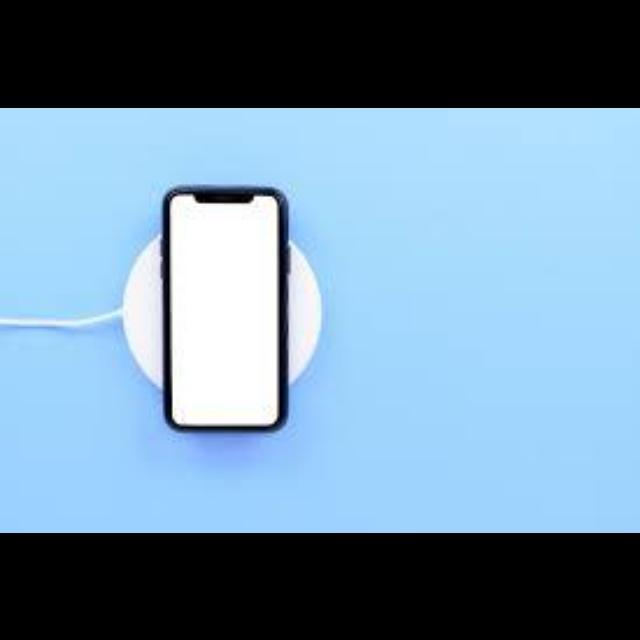Phone: (162, 172, 294, 428)
